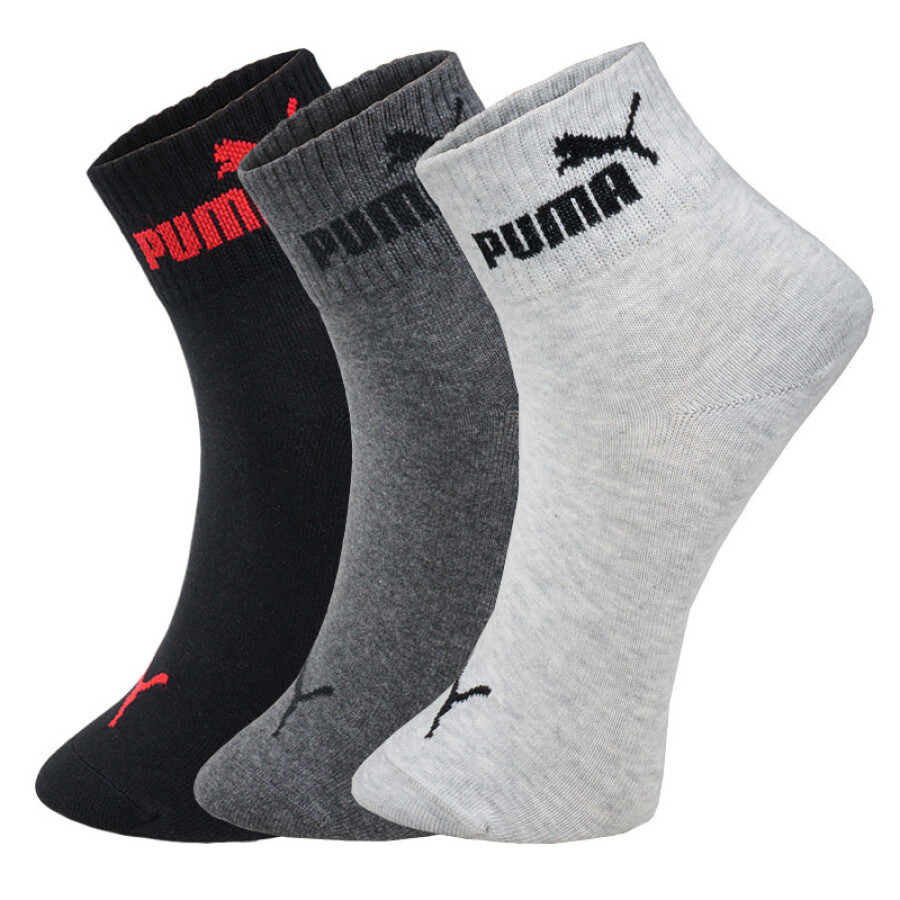Puma: (469, 86, 696, 274)
